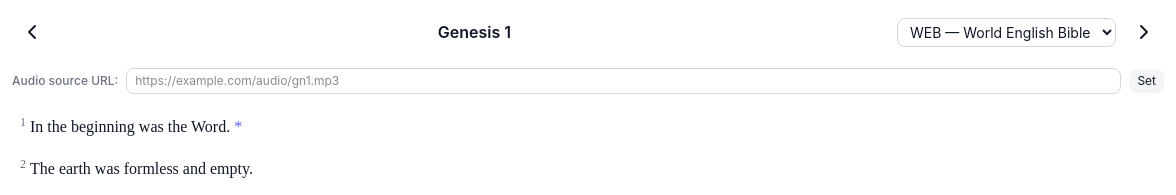
Test: Reader › navigates to next chapter
The image size is (1176, 195).
expect the text "In the beginning was the Word." is shown: met, box [30,118,230,135]
Click the button named "Next chapter": coordinates (1144, 32) [1124,12,1164,52]
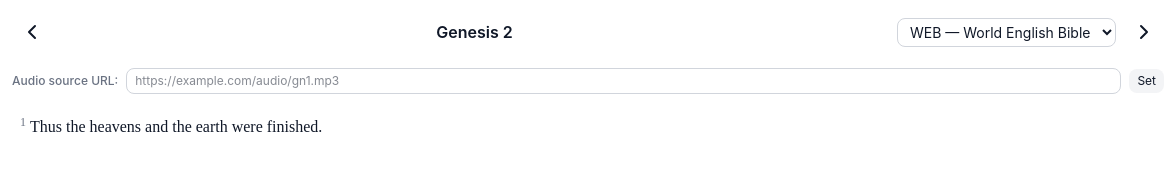
expect the text "Thus the heavens and the earth were finished." is shown: met, box [30,118,322,135]
expect the text "In the beginning was the Word." is gone: met
